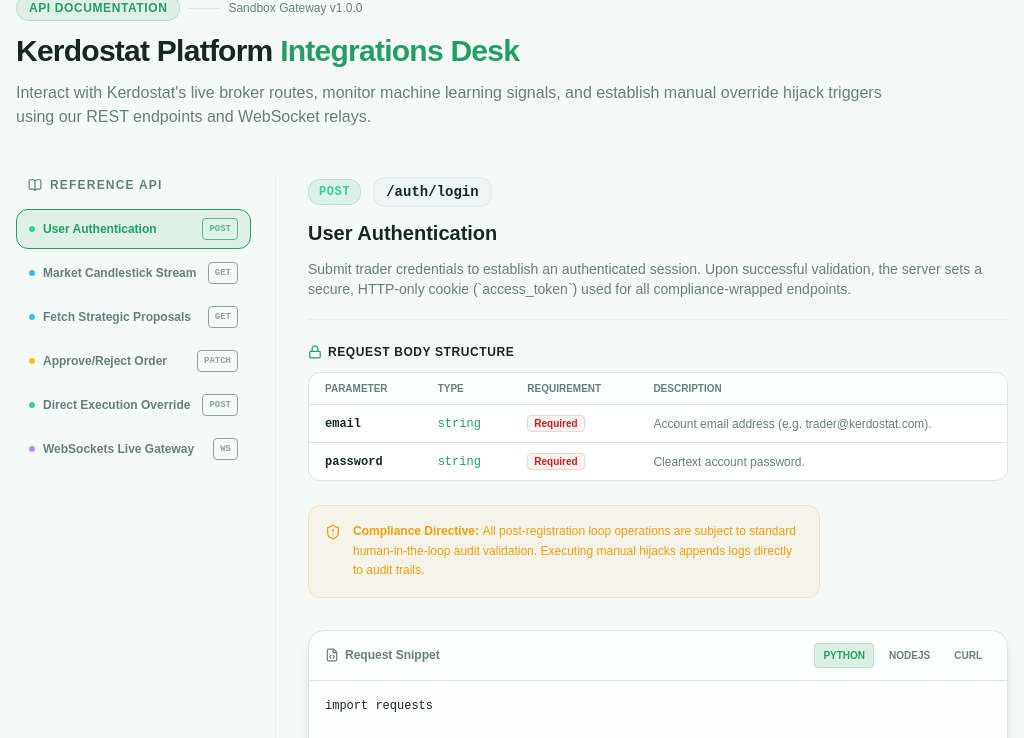
DocsPage Component › updates code block language tab correctly
Switch to cURL
Click the button "curl": (968, 655) [945,642,991,668]
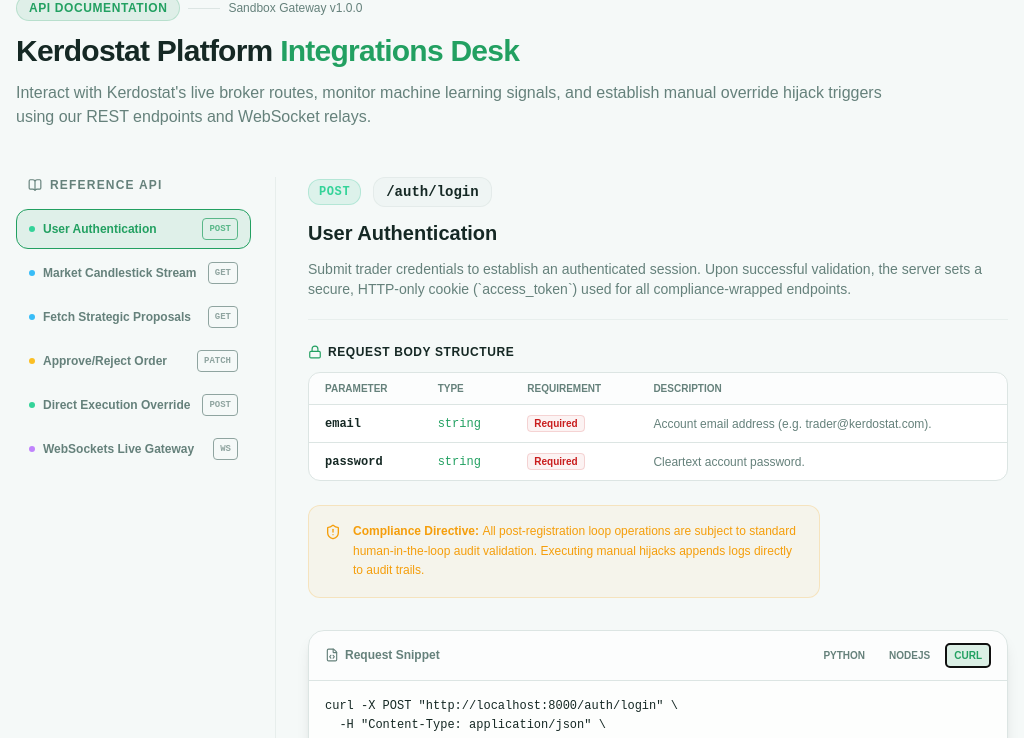
Switch to NodeJS
Click the button "NodeJS": (910, 655) [880,642,939,668]
(page scrolled)
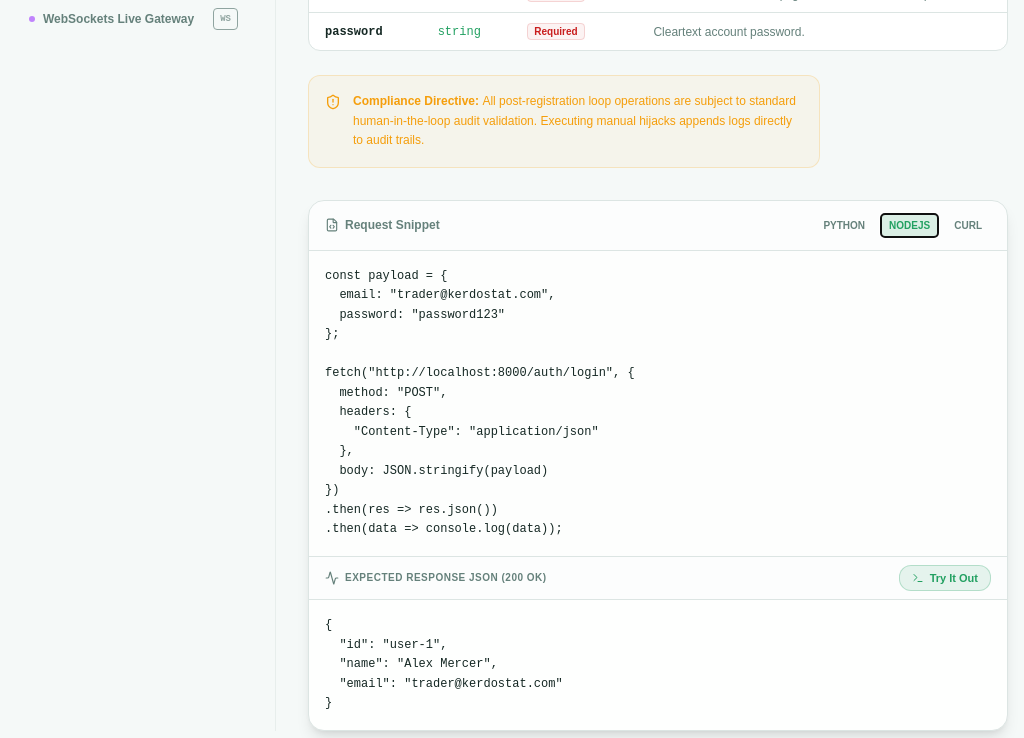
Now the text "fetch(\"http://localhost:8000/auth/login\"" is shown, box [325,268,635,536]
